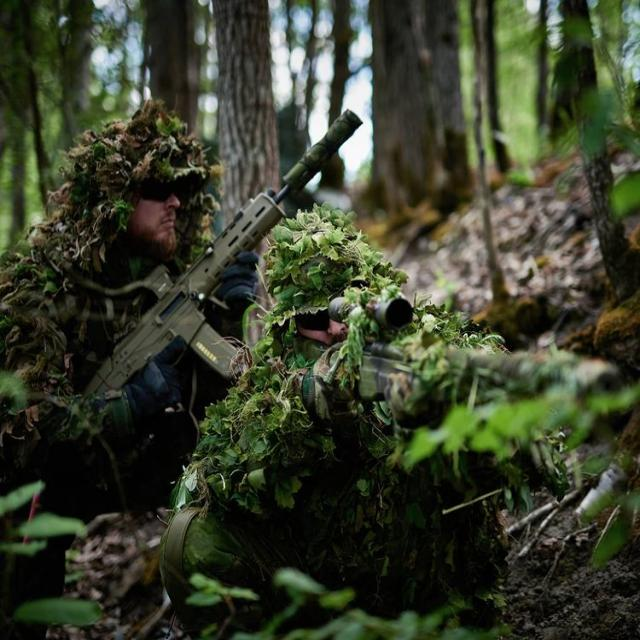Human: (157, 207, 620, 638), (5, 104, 363, 497)
